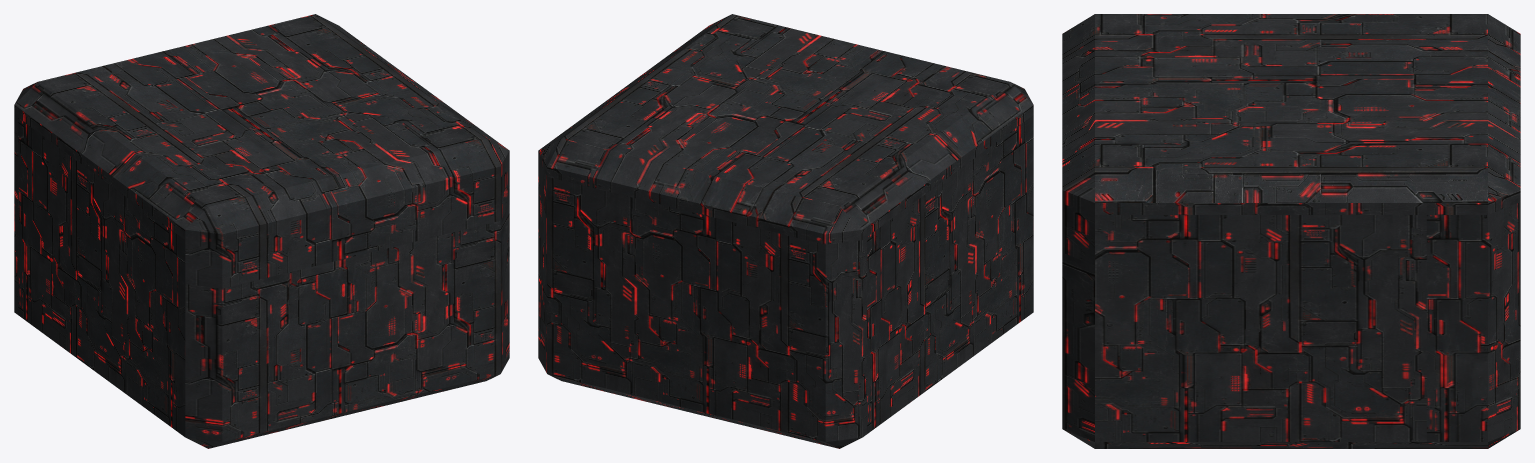
Rendered from Cybernetic Sphere Scene.glb.
The picture shows the model from 3 angles, left to right: view 1: azimuth 30°, elevation 25°; view 2: azimuth 150°, elevation 25°; view 3: azimuth 270°, elevation 25°; orthographic projection. The views are drawn at different scales.
Parts seen in each view (by area): view 1: Box_Env; view 2: Box_Env; view 3: Box_Env.
Part boxes in pixels (box(x1,y1,x2,y2)): Box_Env: box(14, 14, 509, 448); Box_Env: box(538, 14, 1033, 448); Box_Env: box(1062, 14, 1520, 448).
Size of the model in its own units: 10950 by 7808 by 11635.
Materials: 8 (8 with a texture image).
